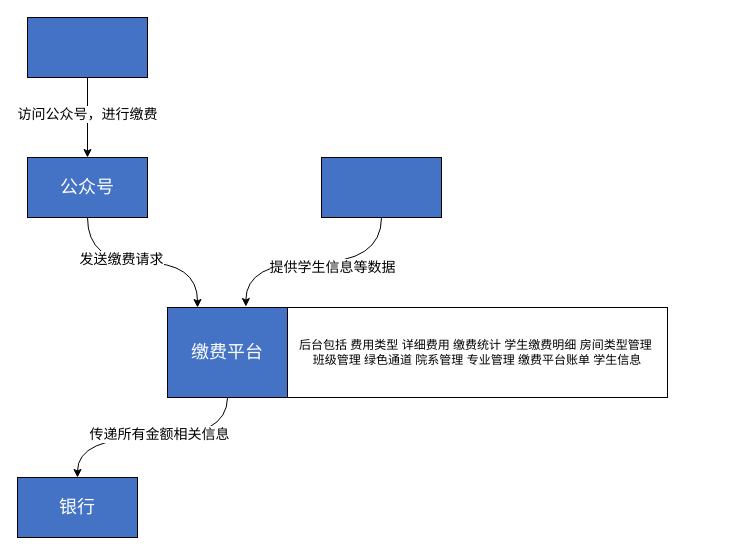
Some shapes in this 740 by 555 pixel diagram are drawn without their labels. The shapes that lost their labels are listed below. From the top down, each one's box as (x1, y1, x2, y2) in pixels, then its label:
(26, 16, 148, 78): 用户
(320, 156, 442, 218): 元数据中台
